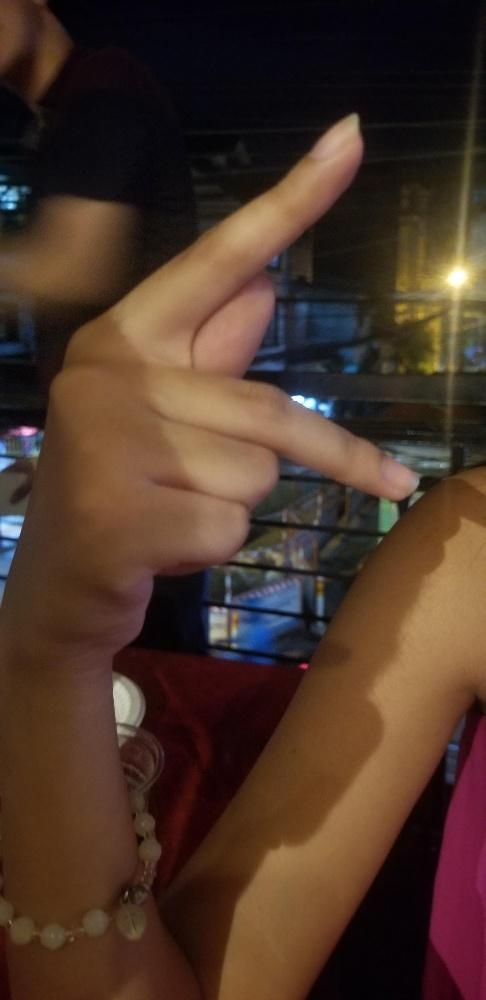k: (4, 112, 418, 649)
